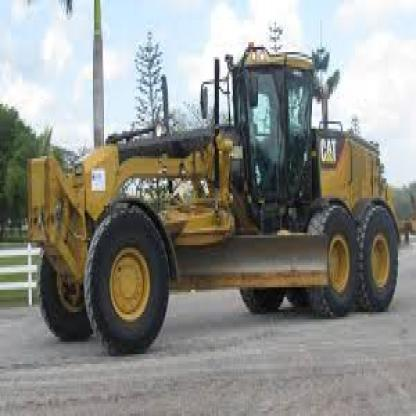bull_dozer/loader/grader: (22, 42, 401, 354)
